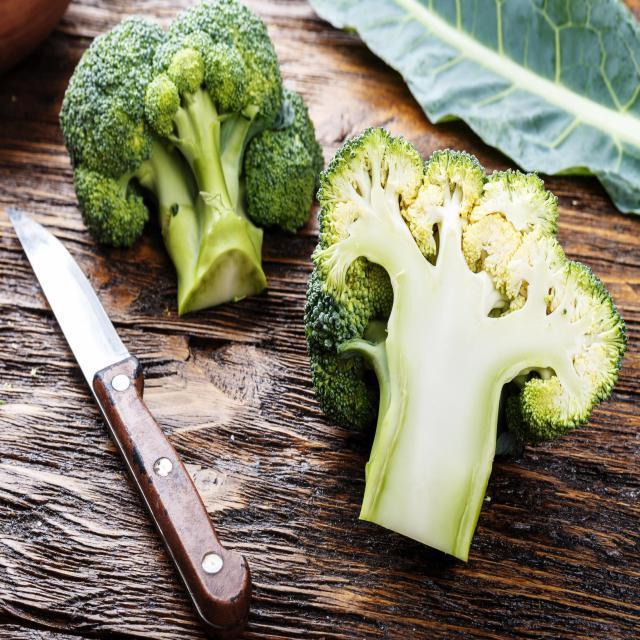broccoli: (302, 125, 627, 578), (55, 0, 328, 328)
